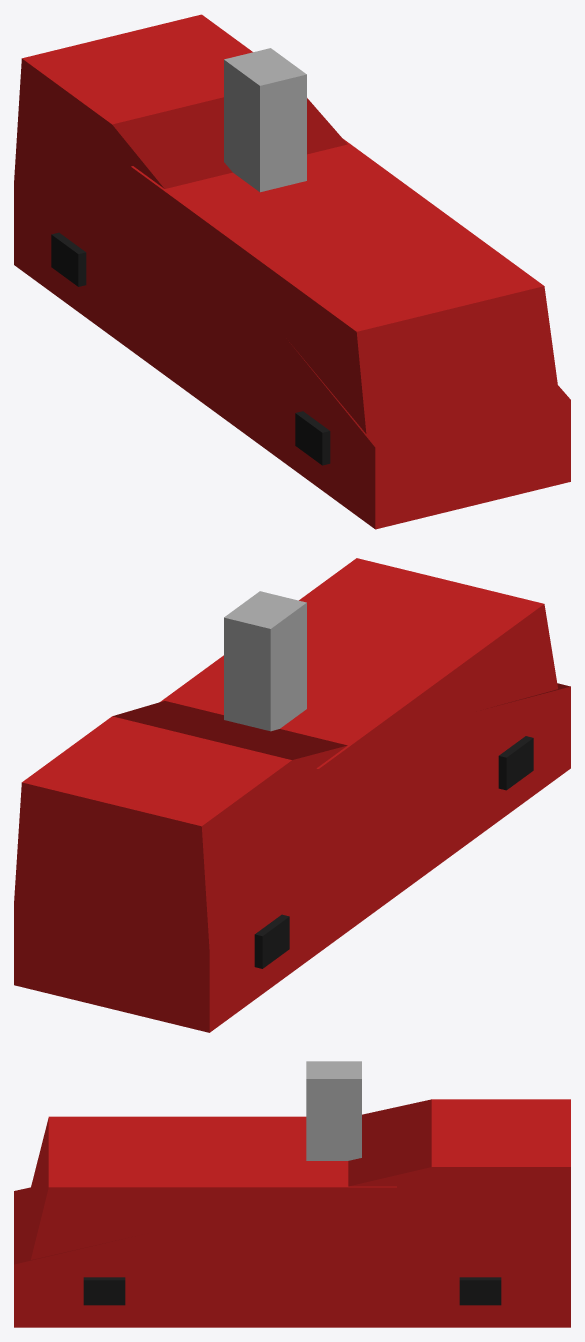
The model's file is firetruck.obj.
3 views of the same model, one above another, from view 1: azimuth 30°, elevation 25°; view 2: azimuth 150°, elevation 25°; view 3: azimuth 270°, elevation 25° (orthographic). The views are drawn at different scales.
Parts seen in each view (by area): view 1: tank, cab, chassis, monitor, wheels; view 2: cab, tank, chassis, monitor, wheels; view 3: cab, tank, chassis, monitor, wheels.
Boxes of the visible parts, x1,y1,x2,y2 form: tank: (95, 139, 557, 434); cab: (14, 14, 570, 447); chassis: (14, 183, 570, 529); monitor: (224, 48, 306, 192); wheels: (51, 232, 330, 465); cab: (14, 683, 570, 950); tank: (160, 558, 557, 850); chassis: (14, 687, 570, 1032); monitor: (224, 591, 306, 731); wheels: (254, 736, 533, 968); cab: (14, 1099, 570, 1264); tank: (30, 1116, 450, 1259); chassis: (14, 1264, 570, 1327); monitor: (306, 1061, 361, 1160); wheels: (83, 1277, 501, 1305).
Size of the model in its own units: 2.7 by 3.5 by 8.
